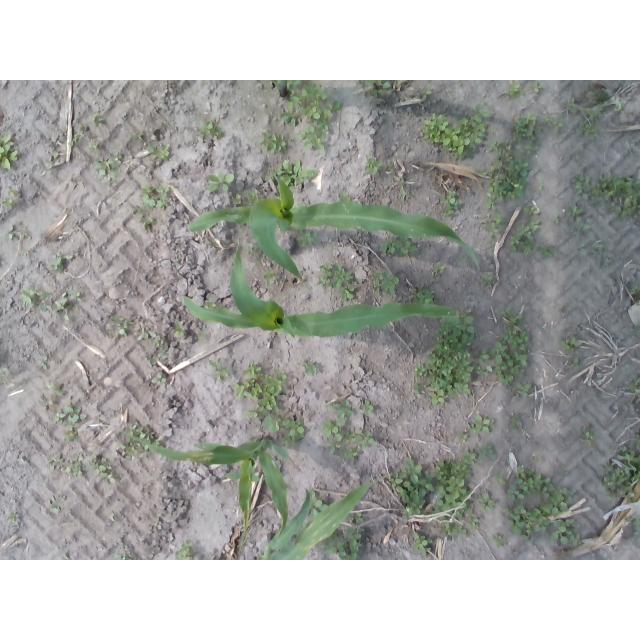Maize: (188, 172, 481, 288), (182, 246, 458, 338), (116, 427, 292, 537), (255, 476, 385, 561), (271, 81, 290, 96)
Weeds: (426, 308, 475, 405), (281, 81, 342, 152), (422, 105, 495, 159), (476, 327, 532, 386), (485, 140, 531, 209), (432, 450, 476, 521), (233, 362, 288, 418), (388, 457, 435, 519), (591, 171, 640, 220), (599, 447, 640, 500), (502, 504, 551, 541), (505, 467, 555, 502), (266, 160, 319, 193), (317, 525, 366, 560), (318, 264, 356, 301), (120, 422, 155, 458), (509, 220, 541, 254), (379, 233, 419, 258), (541, 487, 573, 518), (138, 182, 171, 211), (550, 518, 582, 547), (89, 454, 116, 486), (342, 427, 379, 450), (19, 285, 49, 313), (510, 113, 538, 142), (54, 290, 80, 321), (51, 401, 86, 424), (372, 268, 400, 296), (94, 153, 120, 183), (568, 101, 605, 122), (282, 418, 306, 447), (0, 133, 18, 171), (328, 399, 353, 425), (261, 130, 288, 154), (466, 413, 494, 436), (441, 191, 464, 218), (483, 212, 506, 239), (206, 172, 234, 193), (47, 251, 73, 273), (411, 531, 433, 557), (570, 173, 591, 200), (592, 241, 613, 267), (440, 521, 469, 539), (308, 491, 328, 517), (538, 115, 565, 134), (362, 80, 390, 98), (208, 356, 229, 380), (64, 454, 84, 478), (411, 286, 436, 305), (198, 121, 223, 140), (1, 186, 20, 210), (477, 443, 499, 462), (566, 220, 590, 237), (476, 492, 496, 512), (175, 540, 195, 560), (561, 335, 582, 354), (323, 420, 342, 441), (364, 154, 383, 175), (111, 314, 129, 336), (148, 143, 170, 161), (499, 307, 522, 324), (576, 120, 597, 138), (300, 359, 321, 376), (47, 452, 65, 471), (297, 229, 316, 247), (262, 416, 282, 433), (508, 81, 525, 100), (246, 190, 265, 207), (588, 89, 609, 104), (153, 338, 168, 359), (513, 382, 532, 398), (564, 203, 584, 218), (581, 426, 599, 442), (398, 177, 411, 199), (70, 124, 83, 146), (490, 534, 509, 549), (538, 245, 558, 259), (358, 400, 374, 417), (478, 272, 494, 289), (262, 268, 279, 284), (45, 381, 63, 396), (490, 470, 506, 486), (43, 152, 58, 169), (5, 225, 19, 243), (65, 424, 79, 442), (412, 362, 426, 378), (523, 204, 540, 217), (509, 415, 523, 430), (433, 261, 448, 275), (172, 321, 185, 337), (346, 512, 363, 524), (627, 376, 640, 391), (327, 442, 342, 455), (202, 297, 218, 309), (150, 375, 167, 386), (420, 85, 433, 99), (468, 517, 481, 531), (138, 329, 154, 340), (344, 450, 357, 463), (527, 144, 540, 156), (131, 133, 145, 144), (629, 284, 640, 298), (385, 163, 396, 177), (6, 513, 20, 524), (394, 80, 413, 88), (412, 383, 424, 395), (532, 80, 543, 93), (339, 191, 352, 202), (112, 553, 132, 560), (233, 192, 244, 204), (632, 514, 640, 530), (459, 433, 470, 444), (249, 243, 260, 254), (143, 219, 154, 230), (91, 113, 102, 124), (571, 357, 580, 370), (456, 256, 469, 265), (476, 168, 488, 177), (147, 357, 157, 367), (37, 359, 48, 368), (616, 100, 624, 112), (537, 181, 546, 191), (552, 215, 561, 224), (634, 326, 640, 339), (633, 434, 640, 445), (51, 507, 62, 514), (89, 142, 100, 148), (0, 366, 8, 374), (197, 330, 204, 339)
